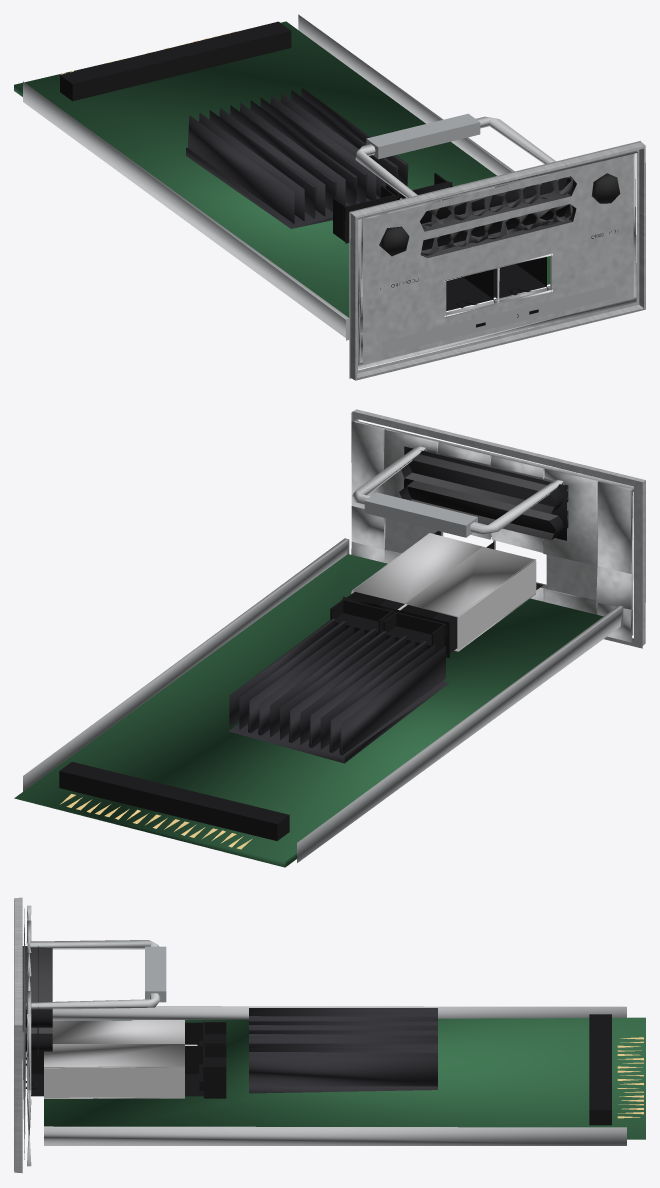
File: C9300-NM-2Y.far.glb
The picture shows the model from 3 angles, top to bottom: view 1: azimuth 30°, elevation 25°; view 2: azimuth 150°, elevation 25°; view 3: azimuth 270°, elevation 25°; orthographic projection. The views are drawn at different scales.
Visible parts, largest first — view 1: Body_far; view 2: Body_far; view 3: Body_far.
Part boxes in pixels (left/top/right/bottom): Body_far: left=14, top=14, right=645, bottom=380; Body_far: left=14, top=409, right=645, bottom=867; Body_far: left=14, top=897, right=645, bottom=1173.
Size of the model in its own units: 0.0802 by 0.0438 by 0.1672.
Materials: 5 (4 with a texture image).
